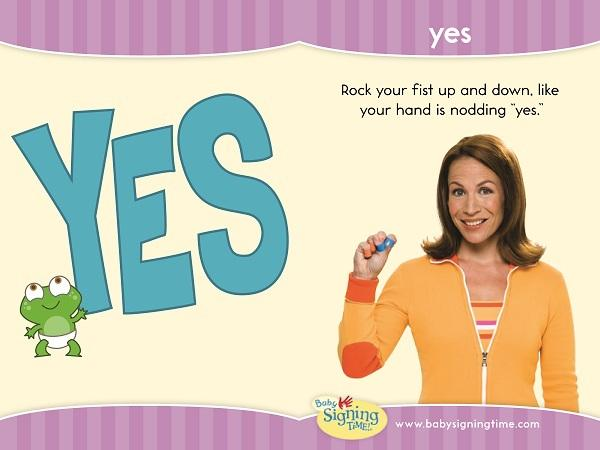Yes: (344, 220, 398, 276)
